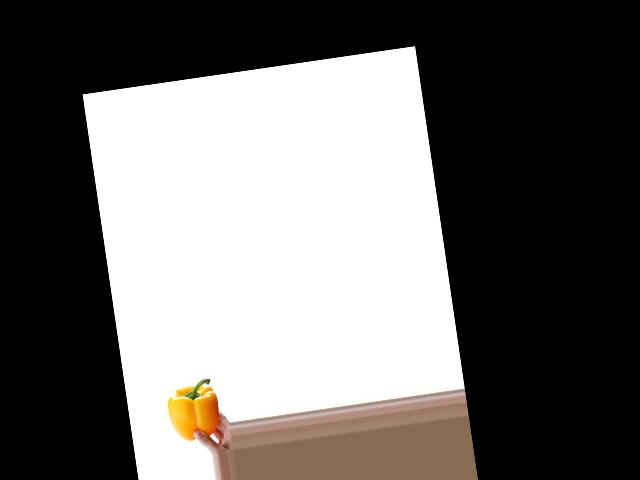bell_pepper: (163, 374, 222, 444)
